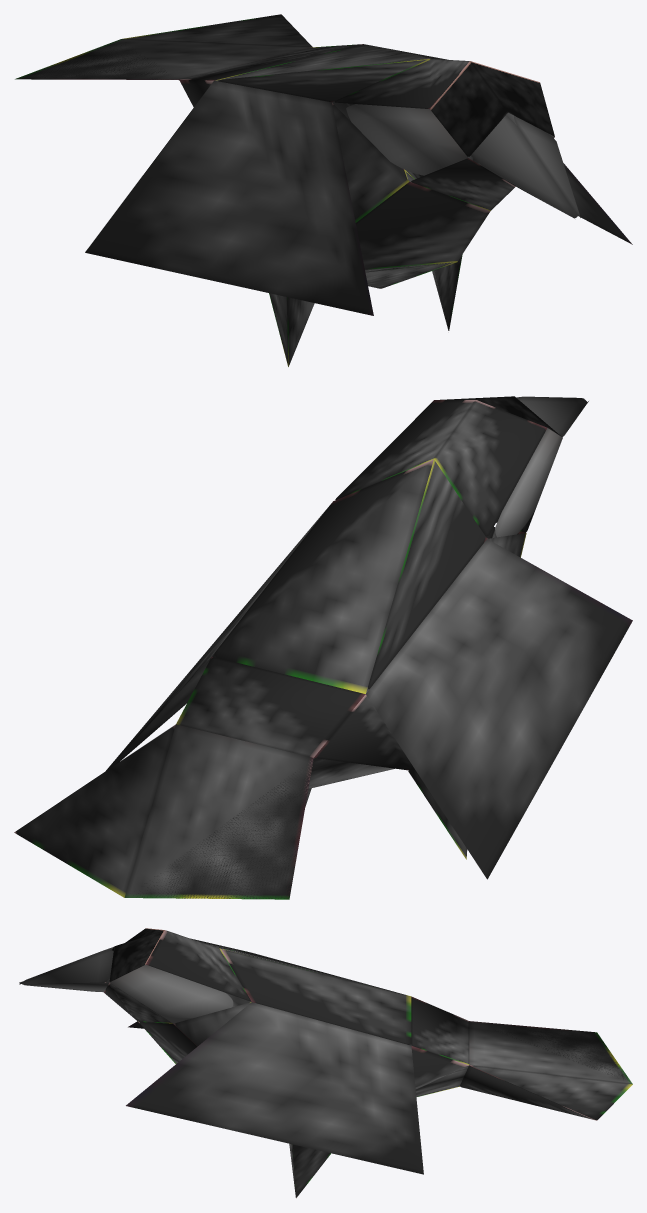
3 renders of one model, top to bottom at view 1: azimuth 30°, elevation 25°; view 2: azimuth 150°, elevation 25°; view 3: azimuth 270°, elevation 25°, orthographic. The views are drawn at different scales.
Parts seen in each view (by area): view 1: T1L2M008_12; view 2: T1L2M008_12; view 3: T1L2M008_12.
Part boxes in pixels (<box>): T1L2M008_12: <box>15,14,632,366</box>; T1L2M008_12: <box>14,396,632,899</box>; T1L2M008_12: <box>19,928,632,1198</box>.
Bounding box in the file's own units: 0.0934 × 0.0855 × 0.1966.
Materials: 1 (1 with a texture image).
